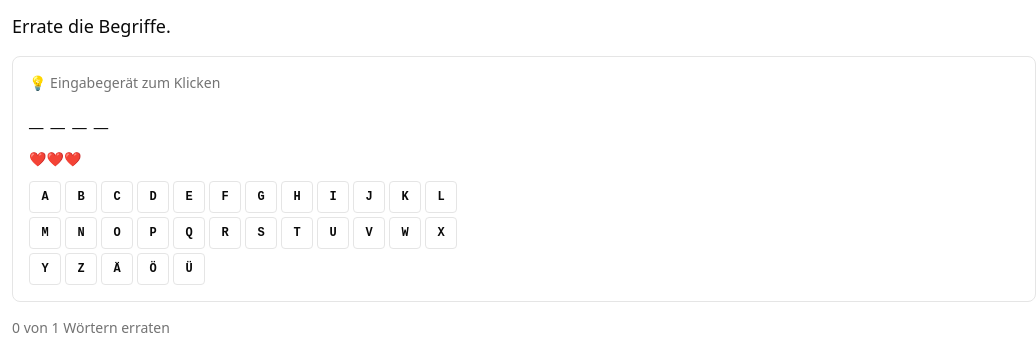
Scenario: HangmanBlock › falsche Buchstaben kosten Herzen; nach maxWrong ist das Wort verloren
What coordinates should you click on to do the following:
click the button "X"
I would click on:
 (441, 233)
Its box is [425,217,457,249].
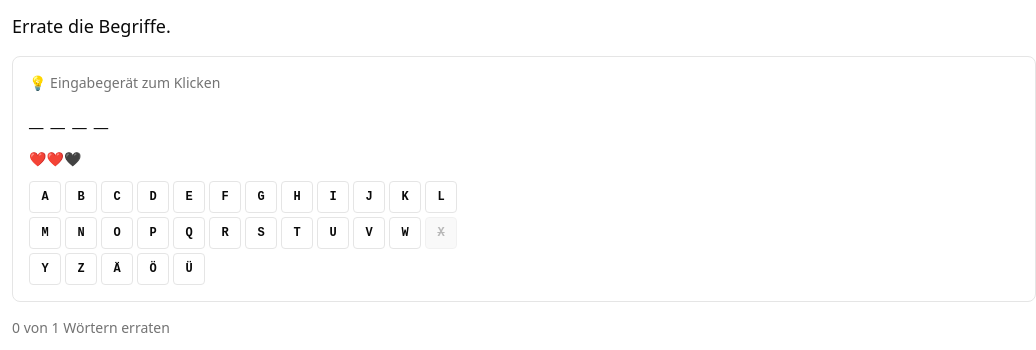
Expected: the text named "2 Versuche übrig" is shown, [29,149,81,168]
What coordinates should you click on to do the following:
click the button "Y"
I would click on:
 (45, 269)
Its box is [29,253,61,285].
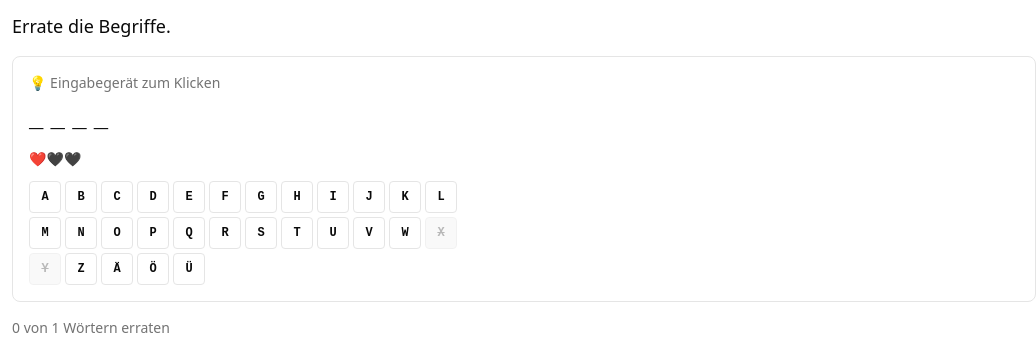
What coordinates should you click on to do the following:
click the button "Z"
I would click on:
 (81, 269)
Its box is [65,253,97,285].
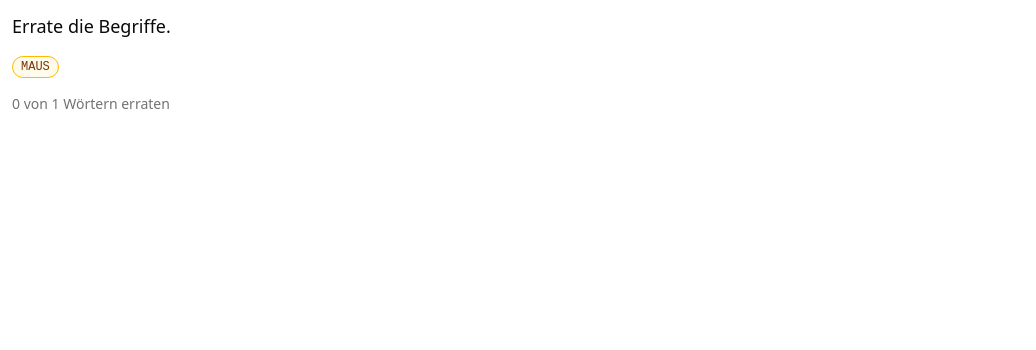
Expected: the text "0 von 1 Wörtern erraten" is shown, [12,94,170,113]
Expected: the list item "MAUS" is shown, [12,56,59,78]
